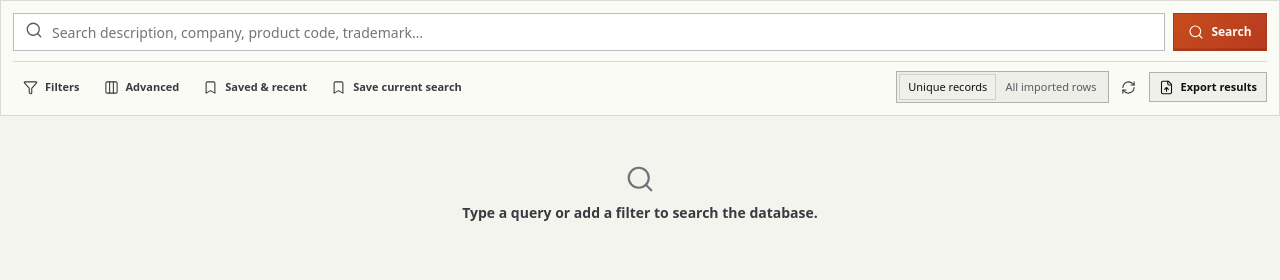
Search request ordering › invalidates an in-flight request when Reset clears the workspace
The width and height of the screenshot is (1280, 280).
Type "pending" into the field with placeholder "Search description, company, product code, trademark…" at (589, 32), box [13,13,1165,51]
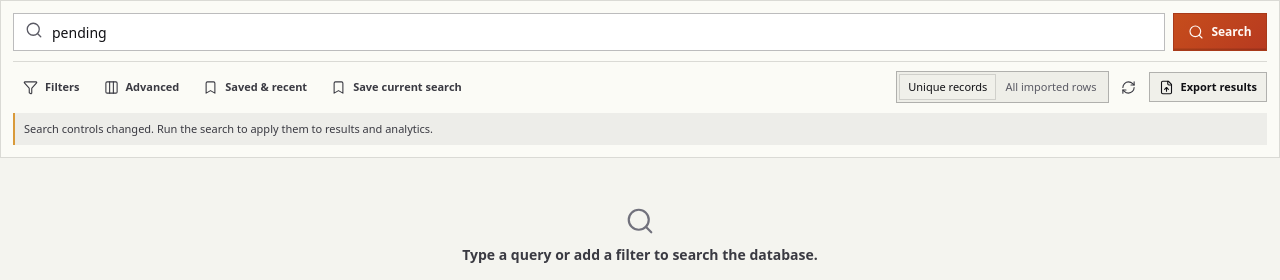
Press Enter in the field with placeholder "Search description, company, product code, trademark…", box [13,13,1165,51]
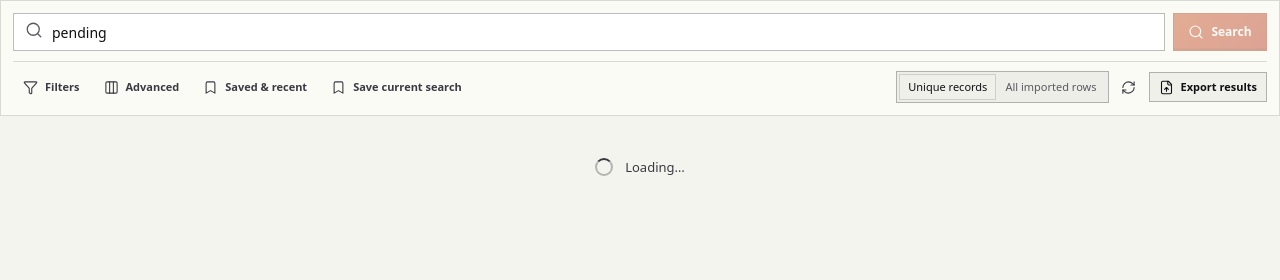
Click the button named "Reset" at (1128, 87), box [1112,71,1144,103]
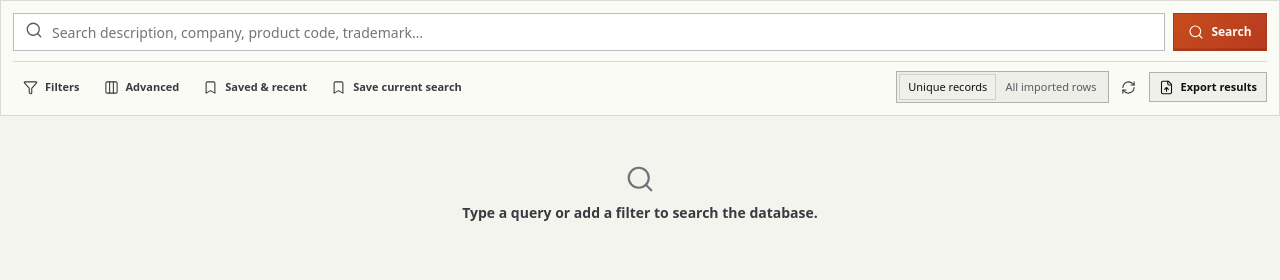
Expected: the text "Type a query or add a filter to search the database." is shown, [462,204,818,222]
